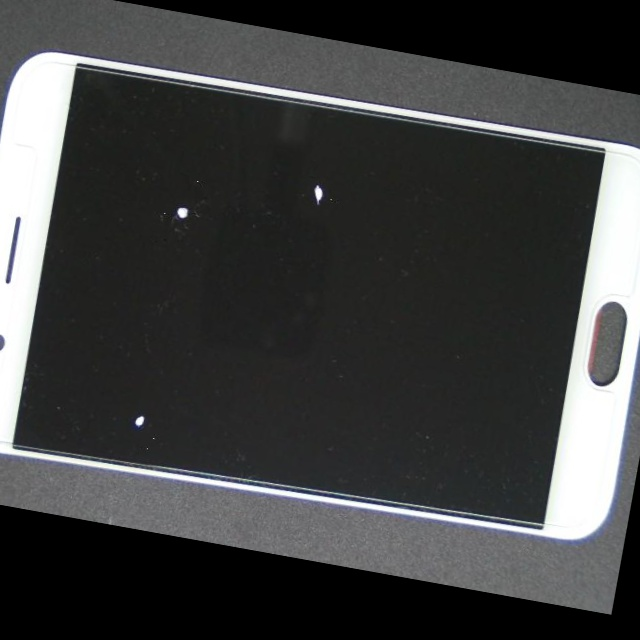stain: (111, 66, 490, 342), (0, 189, 269, 543), (17, 81, 282, 350)
